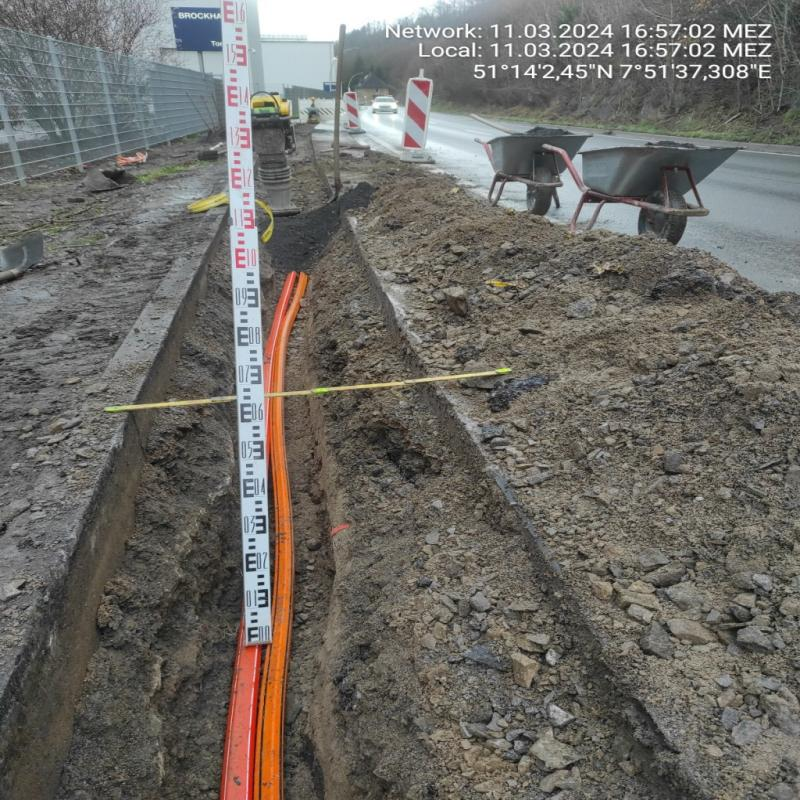Orang-Speednetrohrchen: (221, 273, 307, 800)
